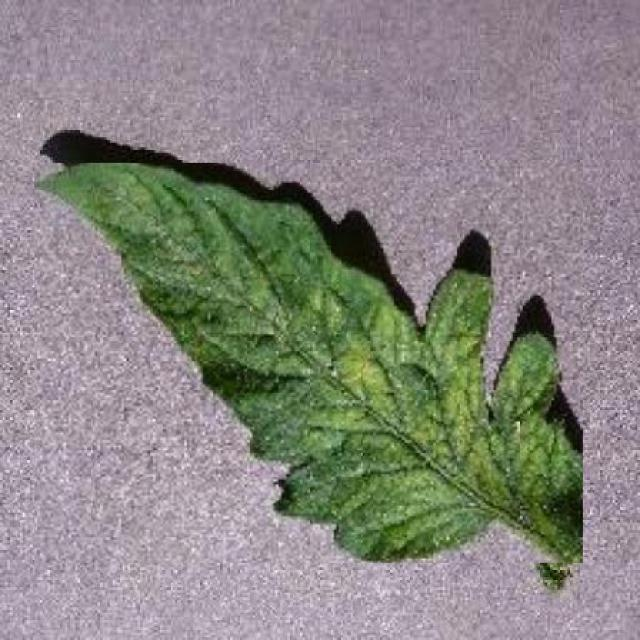Mosaic Virus: (35, 164, 584, 564)
